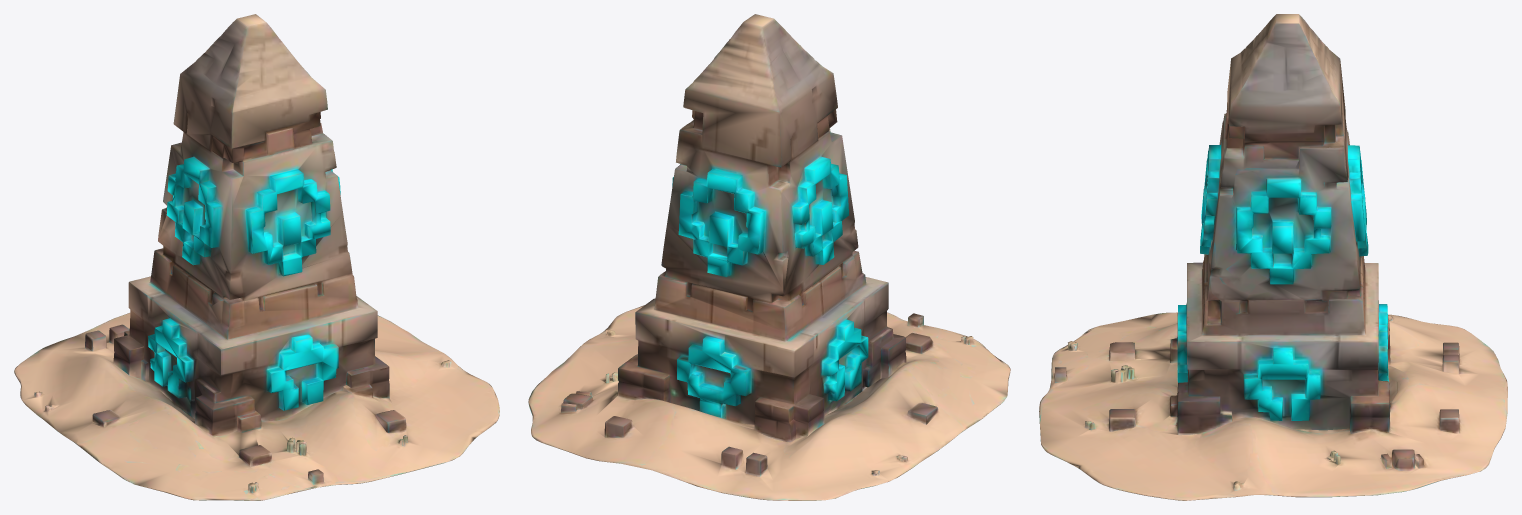
Rendered from obelisk.glb.
3 renders of one model, left to right at view 1: azimuth 30°, elevation 25°; view 2: azimuth 150°, elevation 25°; view 3: azimuth 270°, elevation 25°, orthographic. The views are drawn at different scales.
Parts seen in each view (by area): view 1: node_0; view 2: node_0; view 3: node_0.
Boxes of the visible parts, left/top/right/bottom form: node_0: left=14, top=14, right=499, bottom=500; node_0: left=528, top=14, right=1010, bottom=500; node_0: left=1039, top=14, right=1507, bottom=500.
Size of the model in its own units: 0.7974 by 0.7564 by 0.8293.
1 material, 1 textured.
